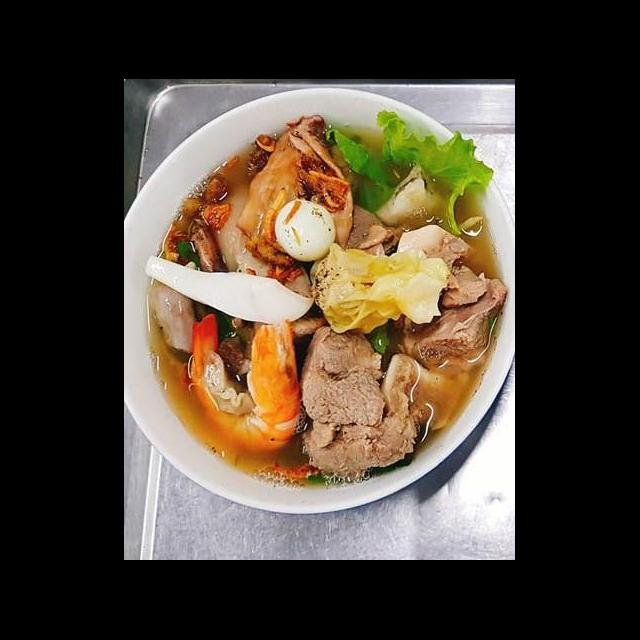muc: (140, 248, 318, 326)
thit heo: (298, 322, 438, 479), (366, 266, 514, 374)
tom: (185, 306, 306, 464)
trung: (270, 196, 340, 264)
